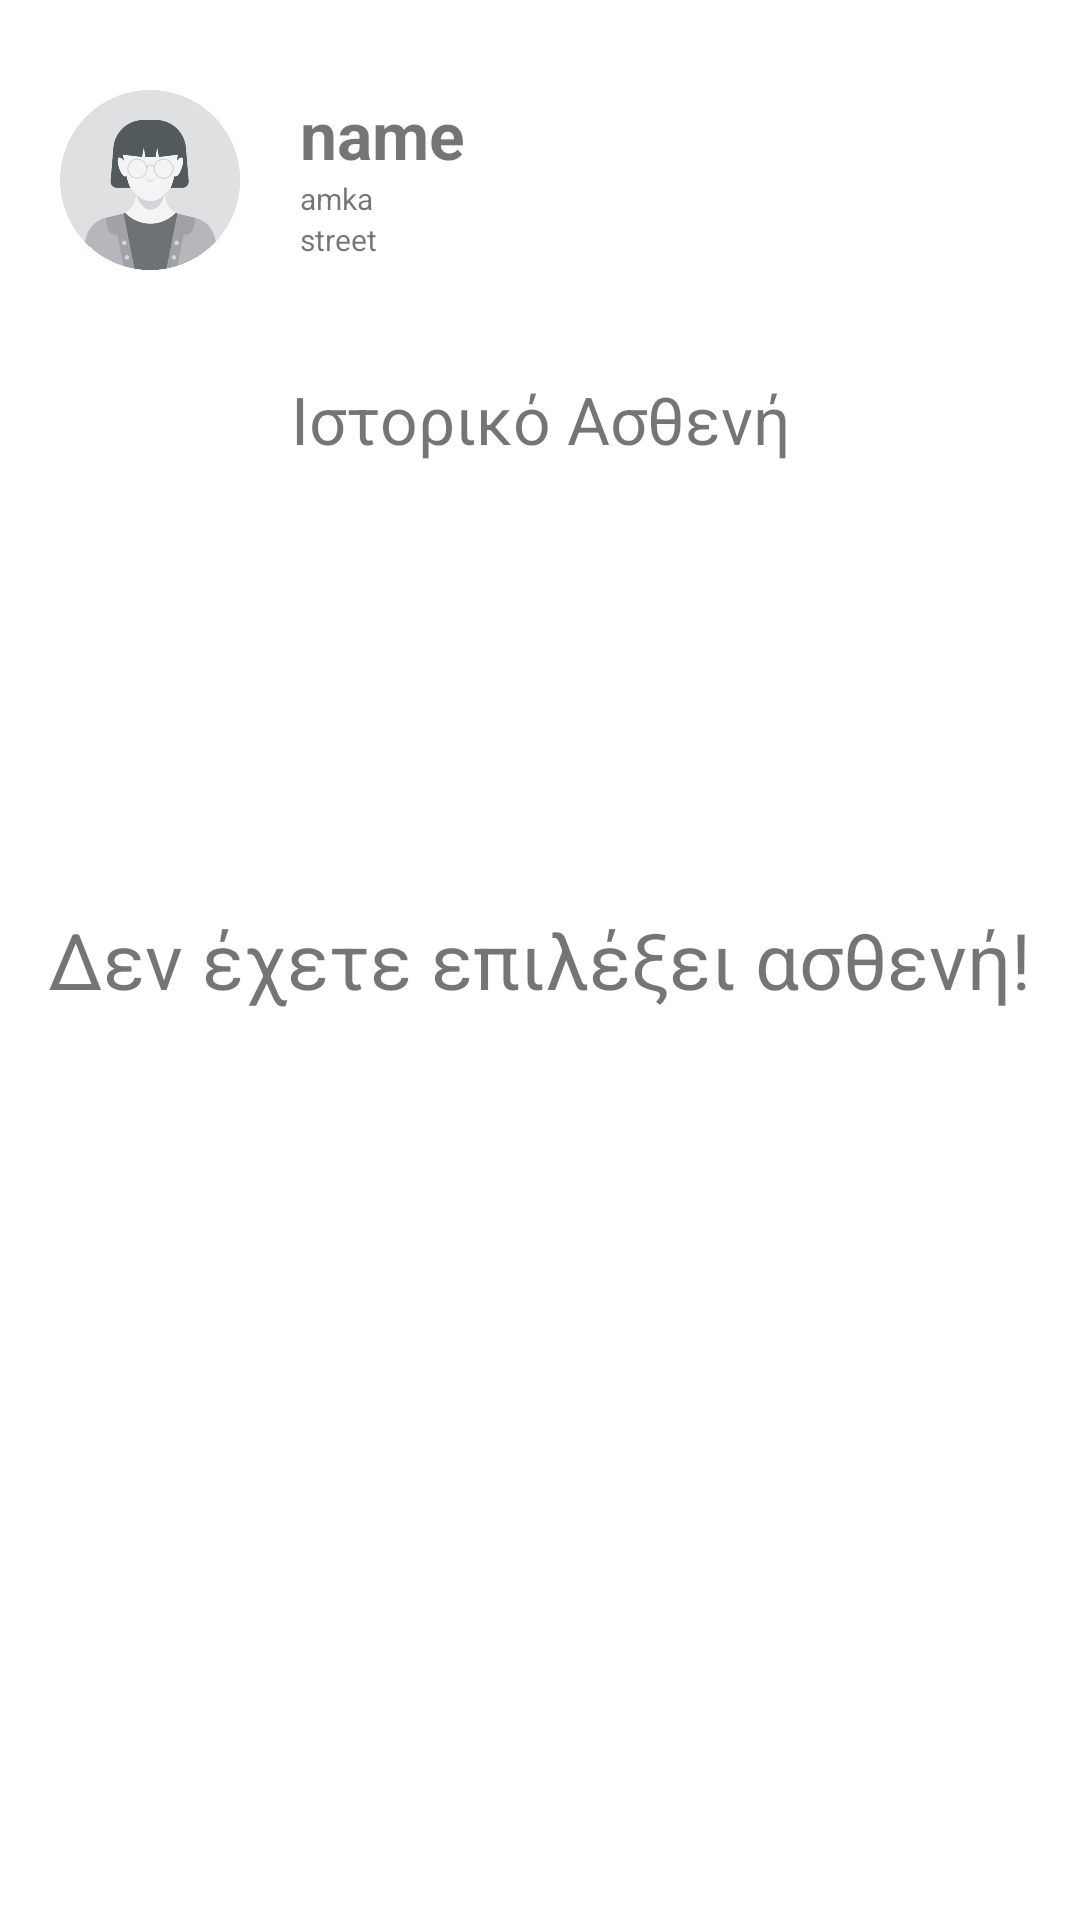

Where to tap for icons on this 1080x1920 app screen, as point (x, y):
profile: point (150, 180)
